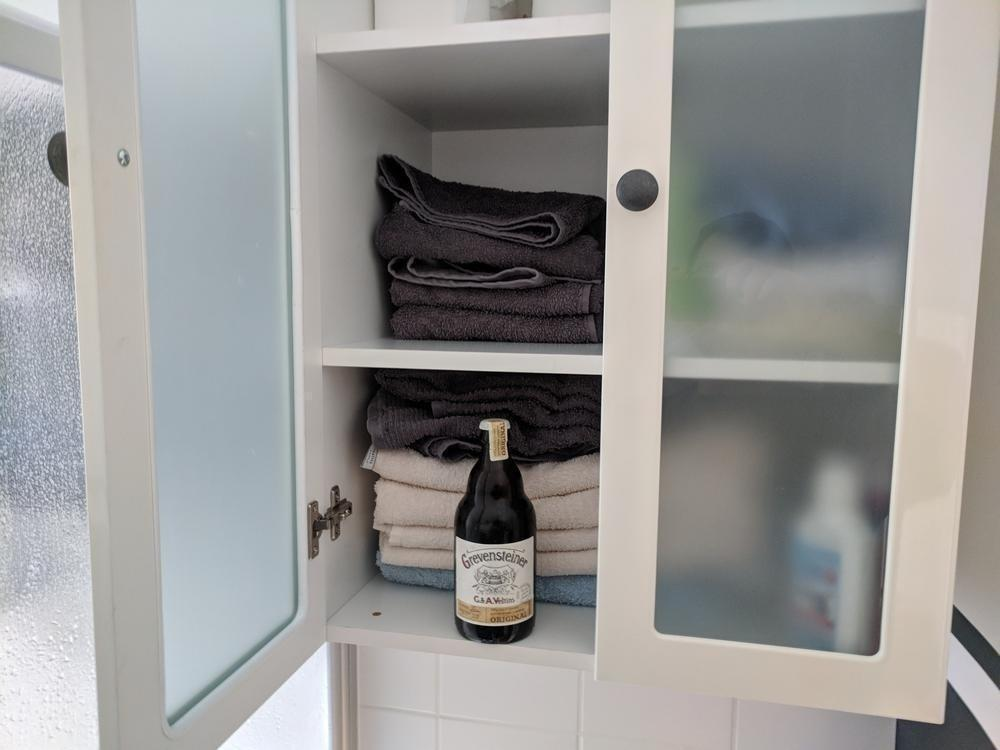bottle-glass: (452, 417, 538, 645)
